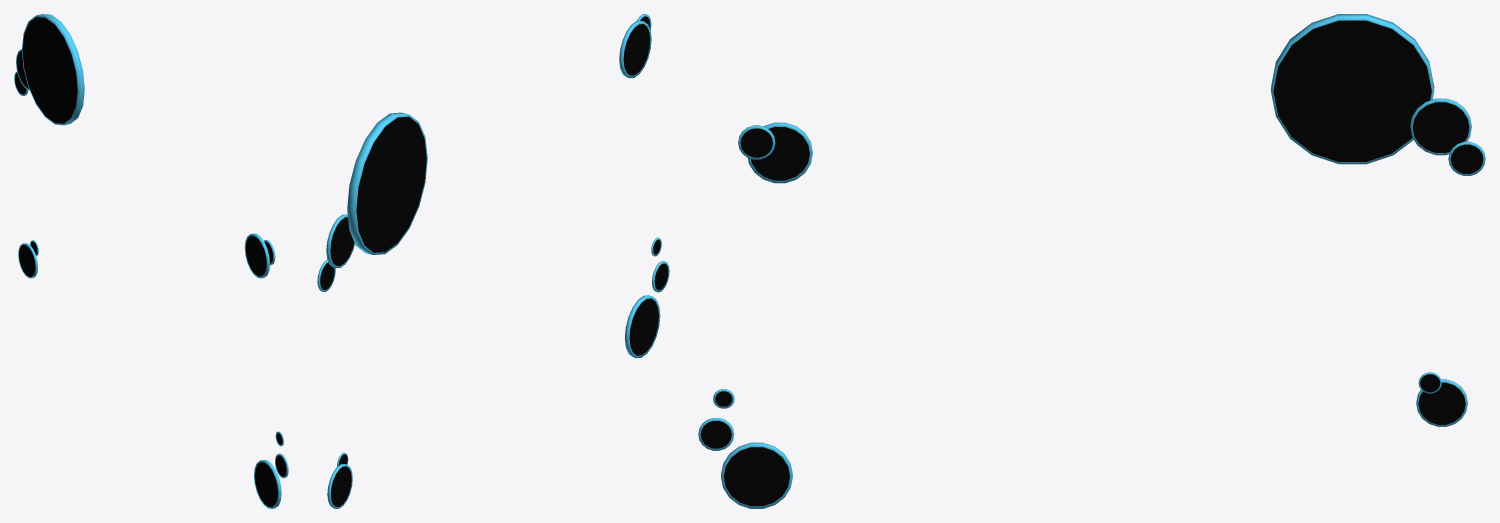
Rendered from REC_UI_objects1.fbx.
3 renders of one model, left to right at view 1: azimuth 30°, elevation 25°; view 2: azimuth 150°, elevation 25°; view 3: azimuth 270°, elevation 25°, orthographic. The views are drawn at different scales.
Visible parts, largest first — view 1: Stage1, Stage1.007, Stage1.005, Stage1.004; view 2: Stage1, Stage1.007, Stage1.005, Stage1.001, Stage1.004, Stage1.008, Stage1.002; view 3: Stage1, Stage1.007, Stage1.001, Stage1.005, Stage1.004, Stage1.006, Stage1.002, Stage1.008.
Part boxes in pixels (x1,y1,x2,y2): Stage1: (22, 14, 84, 125); Stage1.007: (254, 460, 281, 508); Stage1.005: (244, 233, 269, 278); Stage1.004: (18, 243, 37, 278); Stage1: (347, 112, 427, 254); Stage1.007: (624, 295, 660, 358); Stage1.005: (619, 20, 651, 78); Stage1.001: (326, 214, 354, 267); Stage1.004: (327, 464, 352, 508); Stage1.008: (652, 261, 669, 292); Stage1.002: (317, 259, 335, 291); Stage1: (1271, 14, 1434, 164); Stage1.007: (721, 442, 792, 508); Stage1.001: (1410, 98, 1471, 155); Stage1.005: (748, 122, 812, 183); Stage1.004: (1416, 379, 1467, 426); Stage1.006: (738, 125, 775, 159); Stage1.002: (1448, 141, 1485, 175); Stage1.008: (698, 418, 734, 450).
Size of the model in its own units: 0.4528 by 12.08 by 17.72.
